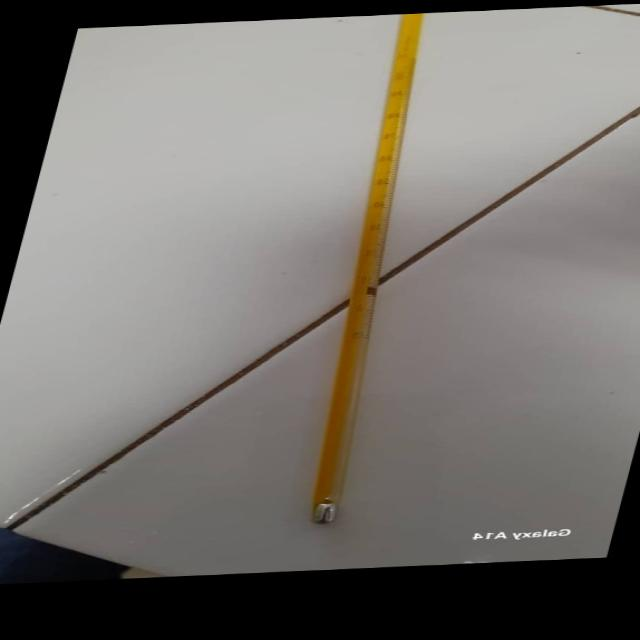Thermometer: (241, 20, 475, 541)
